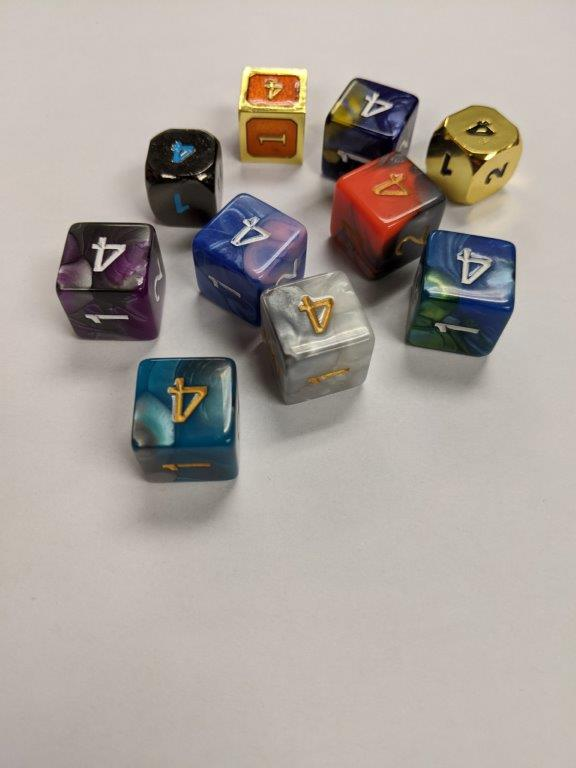d6-4: (192, 190, 309, 322), (263, 270, 374, 409), (330, 150, 448, 277), (405, 234, 519, 359), (128, 359, 241, 484), (58, 219, 164, 340), (424, 104, 521, 211), (324, 77, 420, 179), (146, 127, 225, 225), (234, 67, 306, 166)
